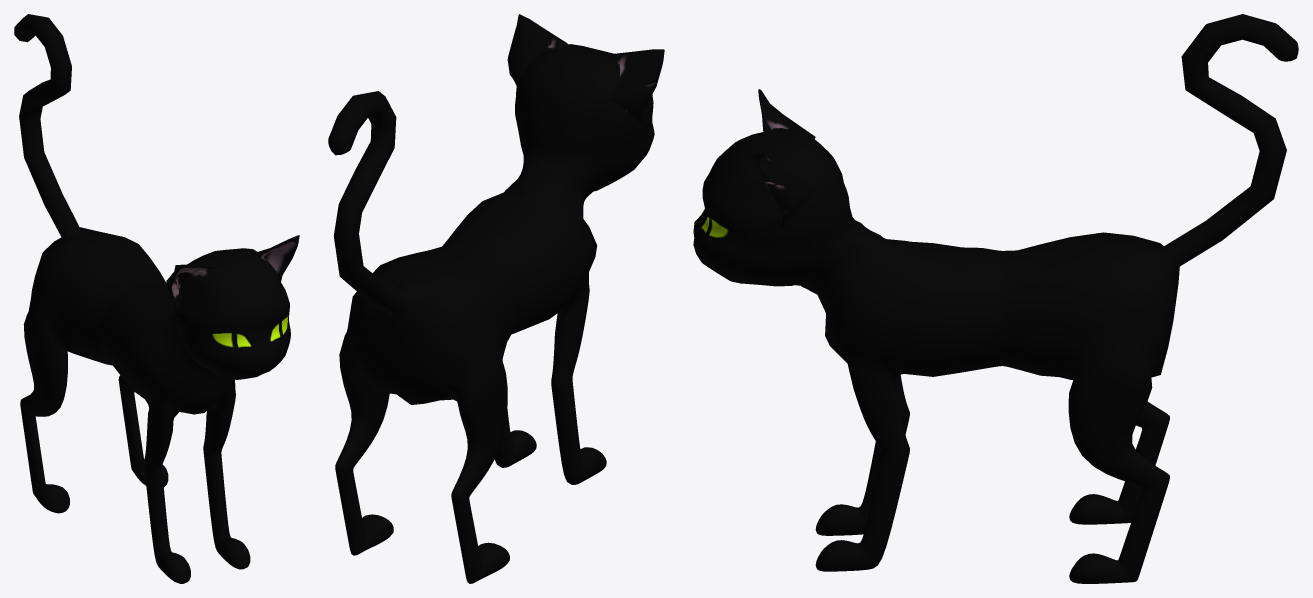
File: cat.glb
3 renders of one model, left to right at view 1: azimuth 30°, elevation 25°; view 2: azimuth 150°, elevation 25°; view 3: azimuth 270°, elevation 25°, orthographic. The views are drawn at different scales.
Visible parts, largest first — view 1: Cube.001; view 2: Cube.001; view 3: Cube.001.
Part boxes in pixels (bbox=[...]): Cube.001: bbox=[14, 14, 299, 583]; Cube.001: bbox=[328, 14, 664, 583]; Cube.001: bbox=[693, 14, 1298, 583].
Size of the model in its own units: 1.71 by 5.72 by 5.83.
1 material, 1 textured.
